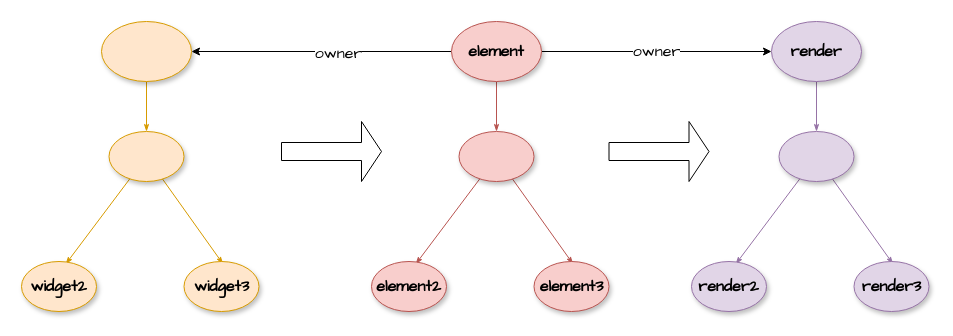
Image size: 953x336. Some labels were removed from this diagram. Each missing label, with the centre of its shape:
element1: pixel 497 157
render1: pixel 817 157
widget: pixel 147 52
widget1: pixel 147 157
